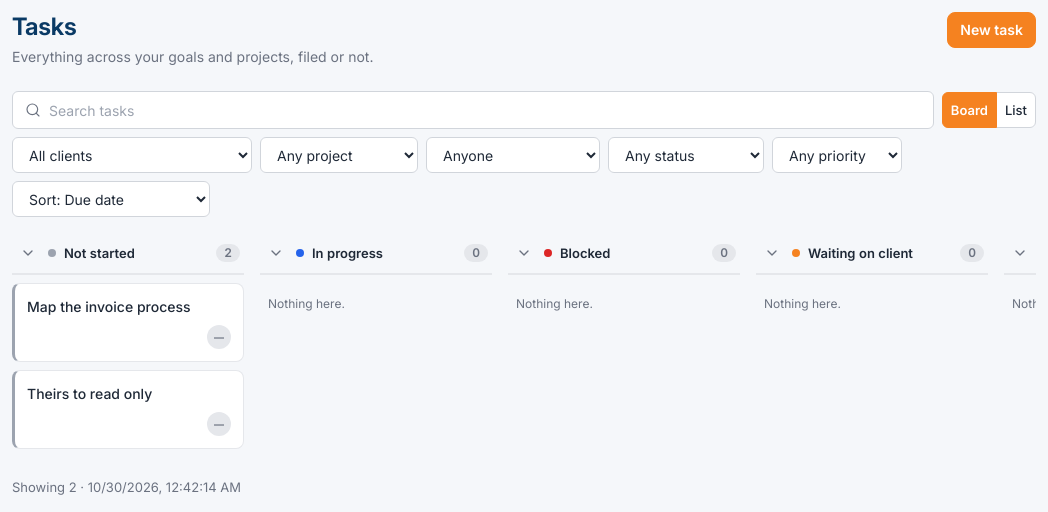
Test: the board: dragging a card changes its status, the long way round › the list view is unchanged and has no drag
Check: the element named "Board" is shown, box [12,233,1036,465]
Click the button "List" at (1016, 110), box [996,92,1036,128]
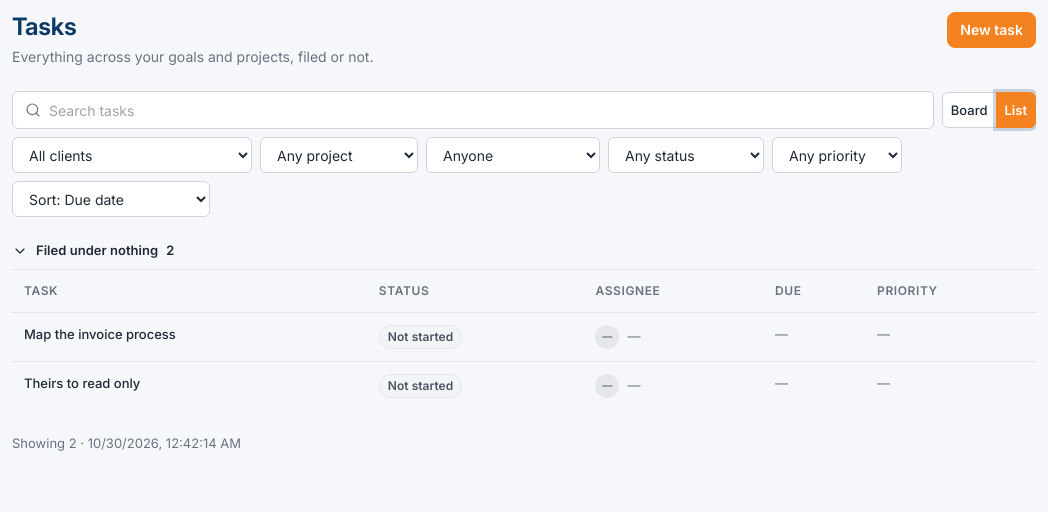
Check: the table is shown, box [12,270,1036,410]
